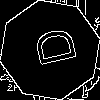D: (25, 25, 77, 71)
